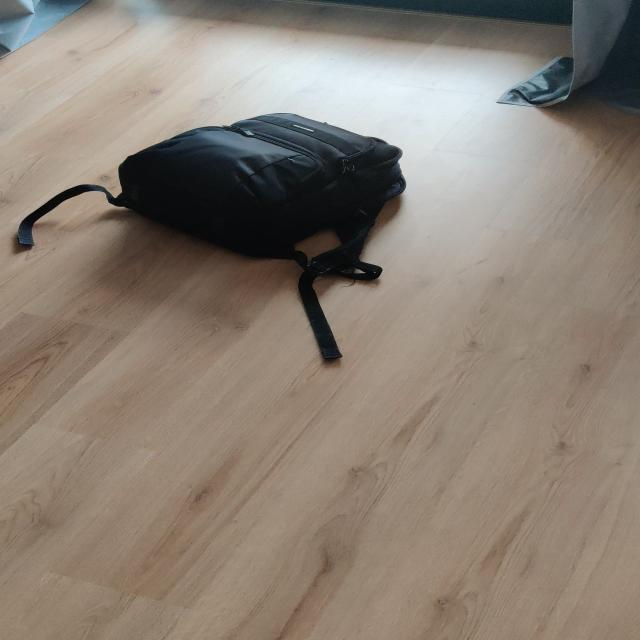backpack: (94, 108, 419, 264)
